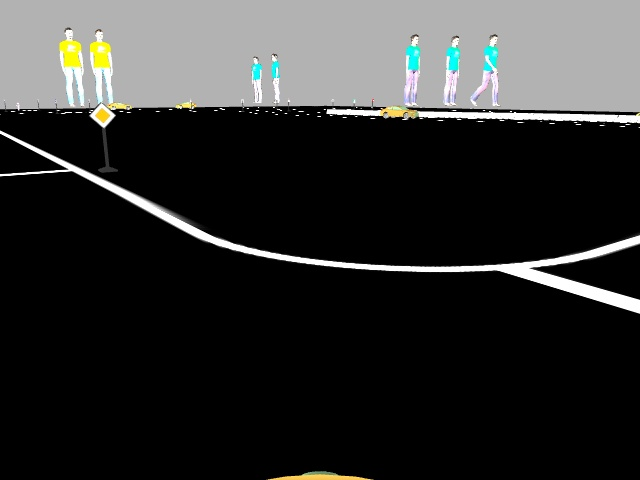Priority: (90, 103, 115, 126)
